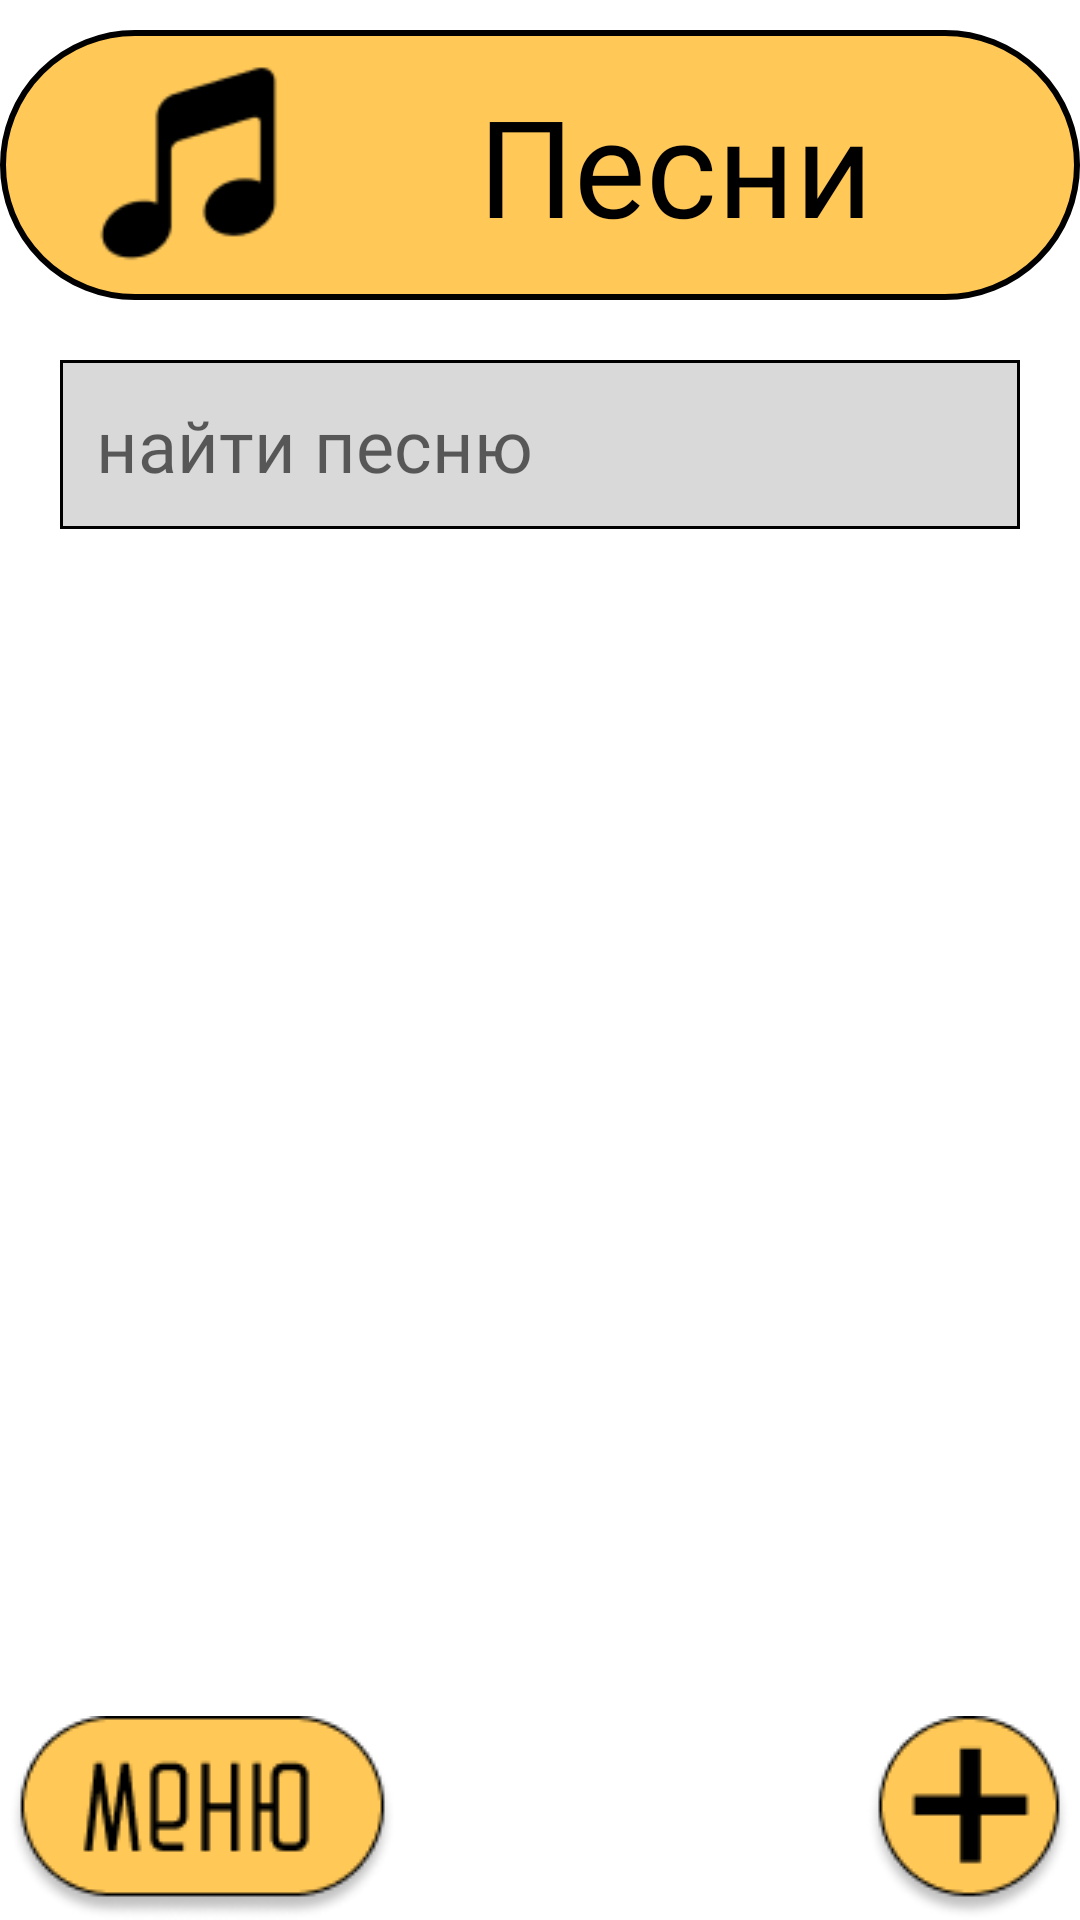

Icons on this 1080w x 1920h Android screen, each with the point to tap as [x,y]:
nota: [188,163]
plus: [969,1812]
